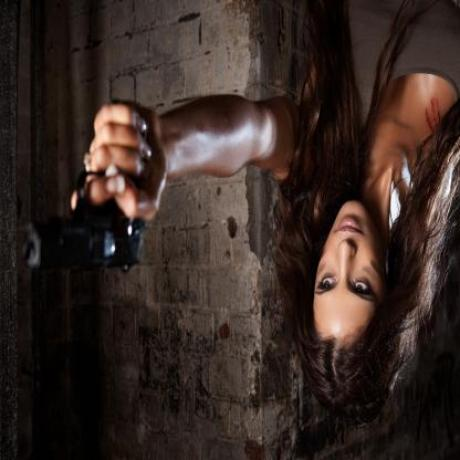1: (86, 0, 460, 429)
weapon: (16, 98, 161, 286)
